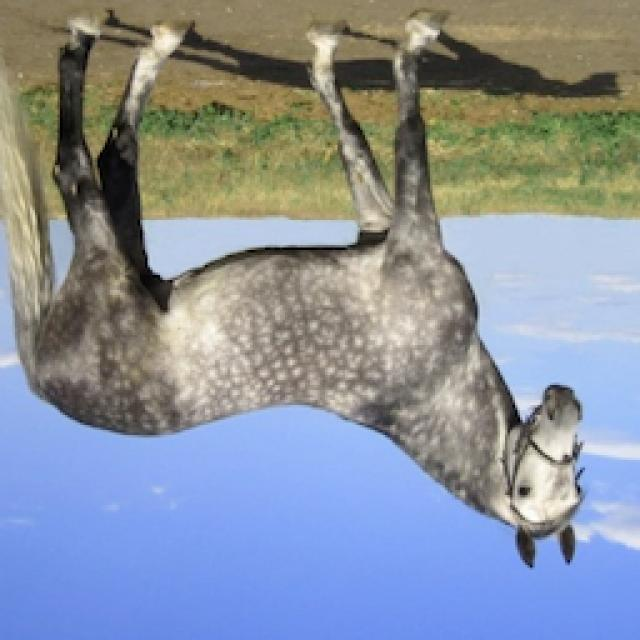Horse: (0, 5, 592, 575)
